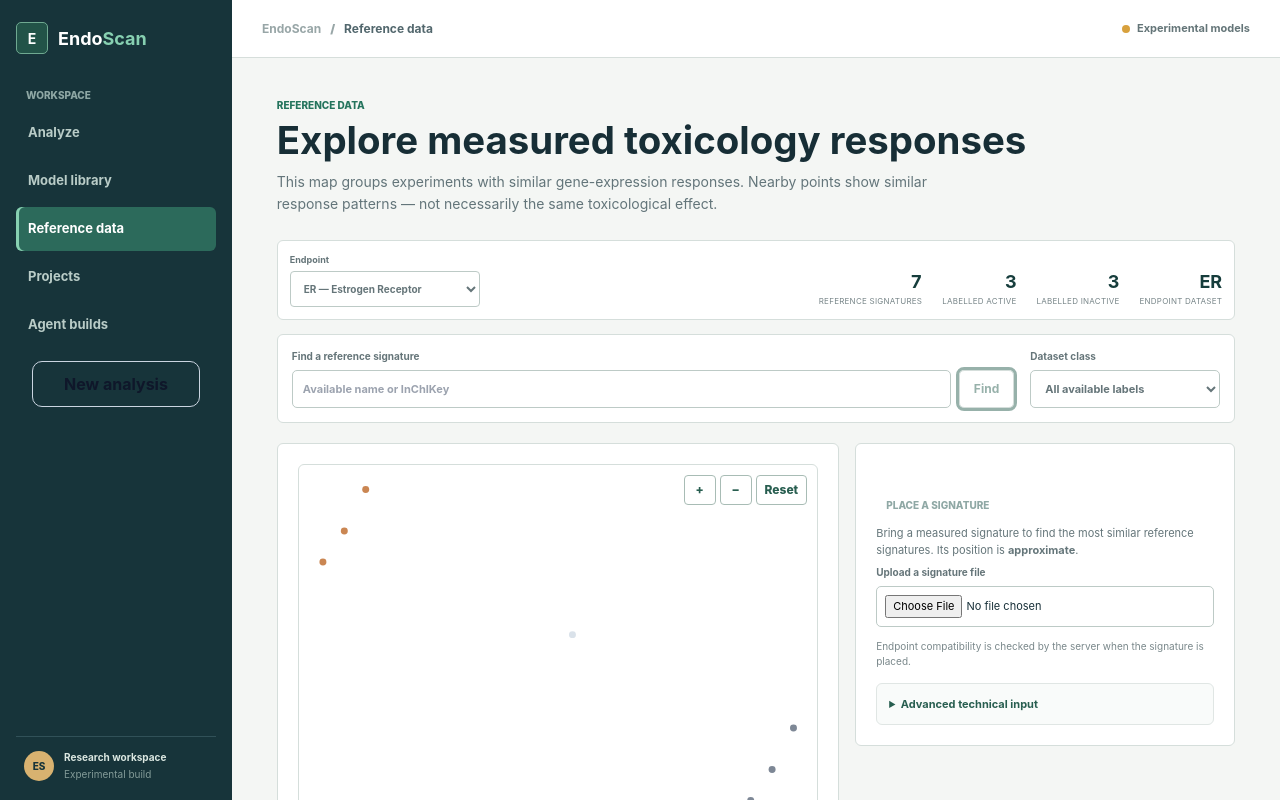
Test: Reference data view › a not-computed context shows an honest empty state with ZERO fabricated points
Step 1. Select "AR — Androgen Receptor" in the dropdown labelled "Endpoint" → (385, 289), box 290,271 -> 480,307
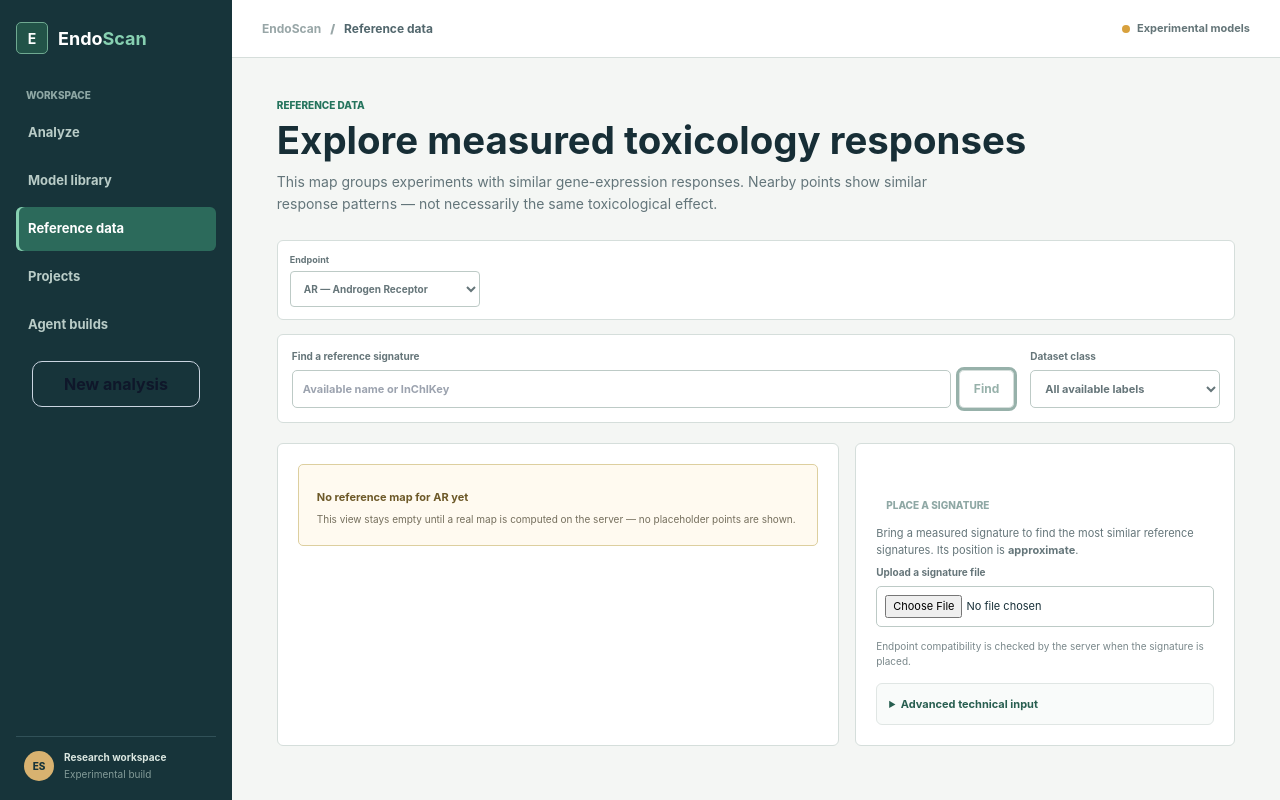
Now the text "No reference map for AR yet" is shown, box 317,490 -> 468,504
